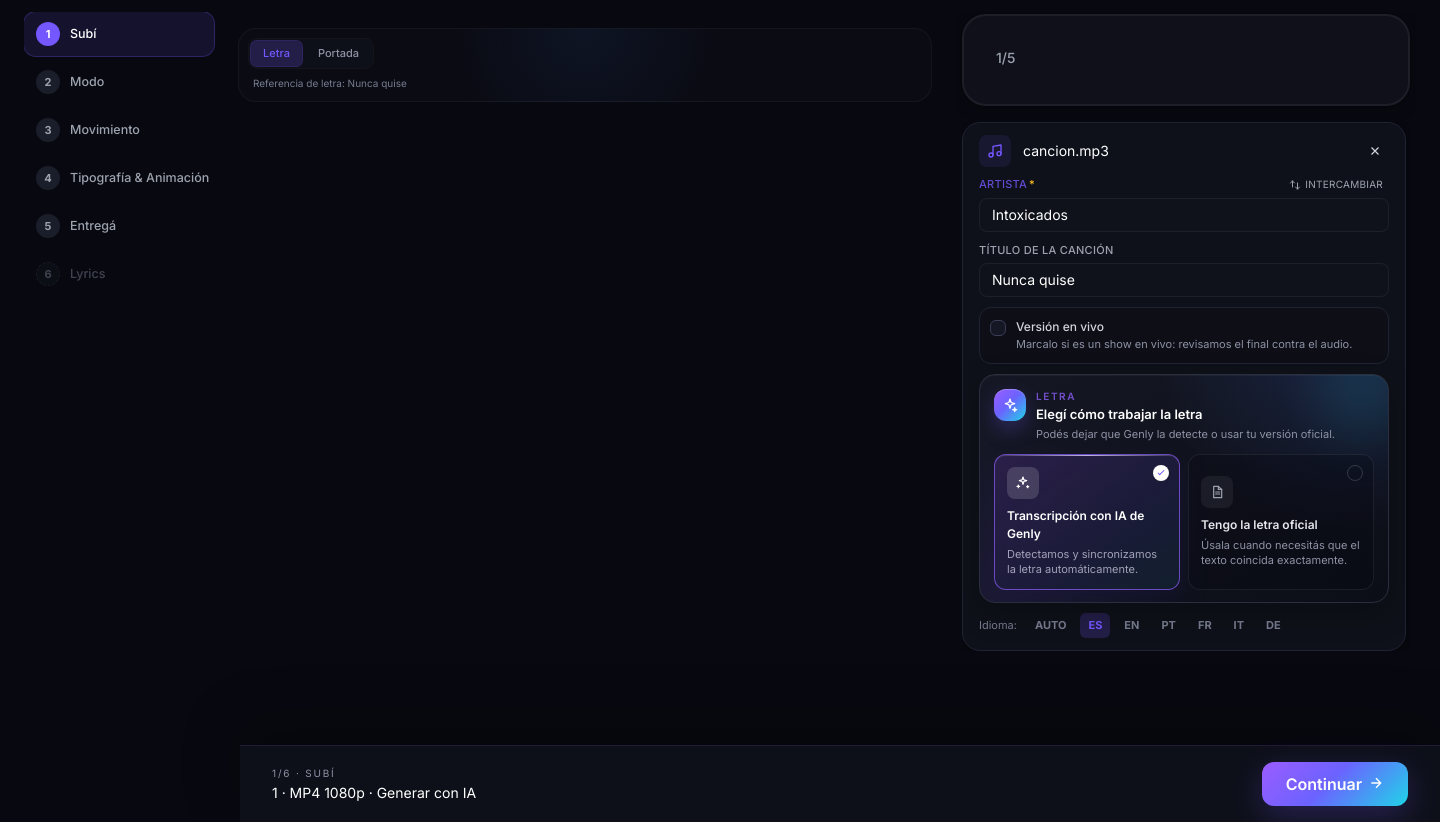
it: selector de fuente de letra (IA de Genly vs letra oficial) › no promete anclado exacto hasta que haya texto pegado
Click the radio button with test id "lyrics-source-official-0" at (1281, 522), box [1188,454,1374,590]
(page scrolled)
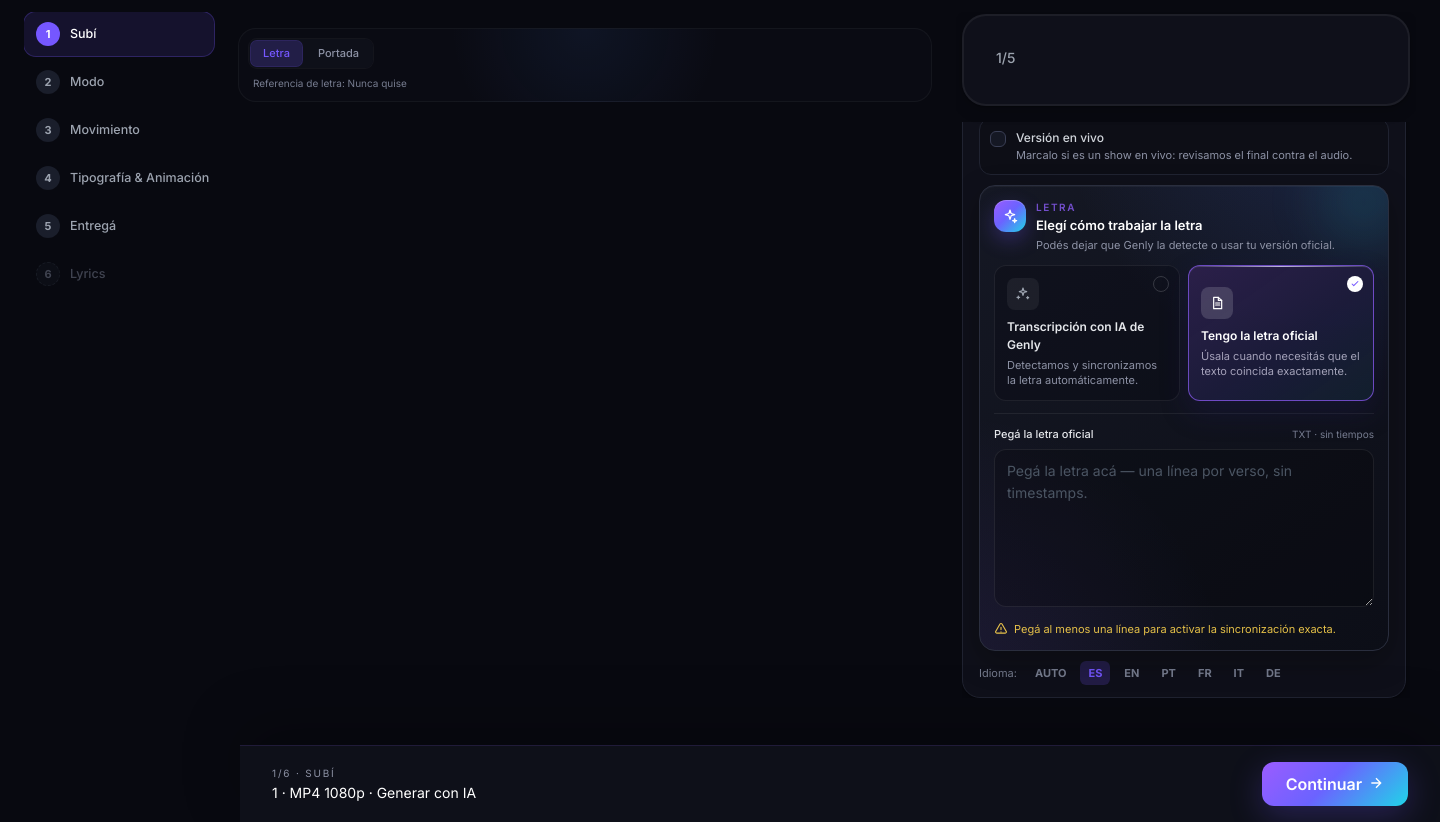
Now the text "Pegá al menos una línea para activar la sincronización exacta." is shown, box [1014,621,1336,638]
